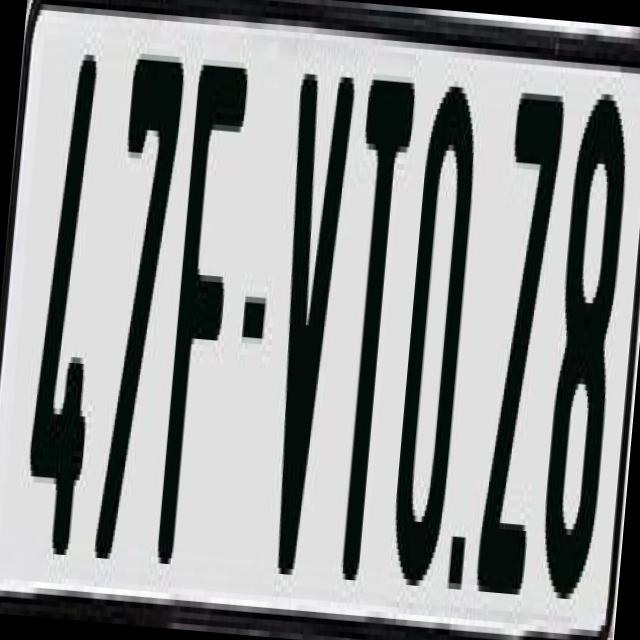0: (386, 79, 483, 582)
4: (21, 35, 126, 556)
7: (90, 52, 188, 578)
8: (536, 86, 632, 624)
F: (155, 47, 252, 585)
T: (322, 68, 416, 582)
V: (258, 68, 362, 576)
Z: (470, 80, 567, 618)
